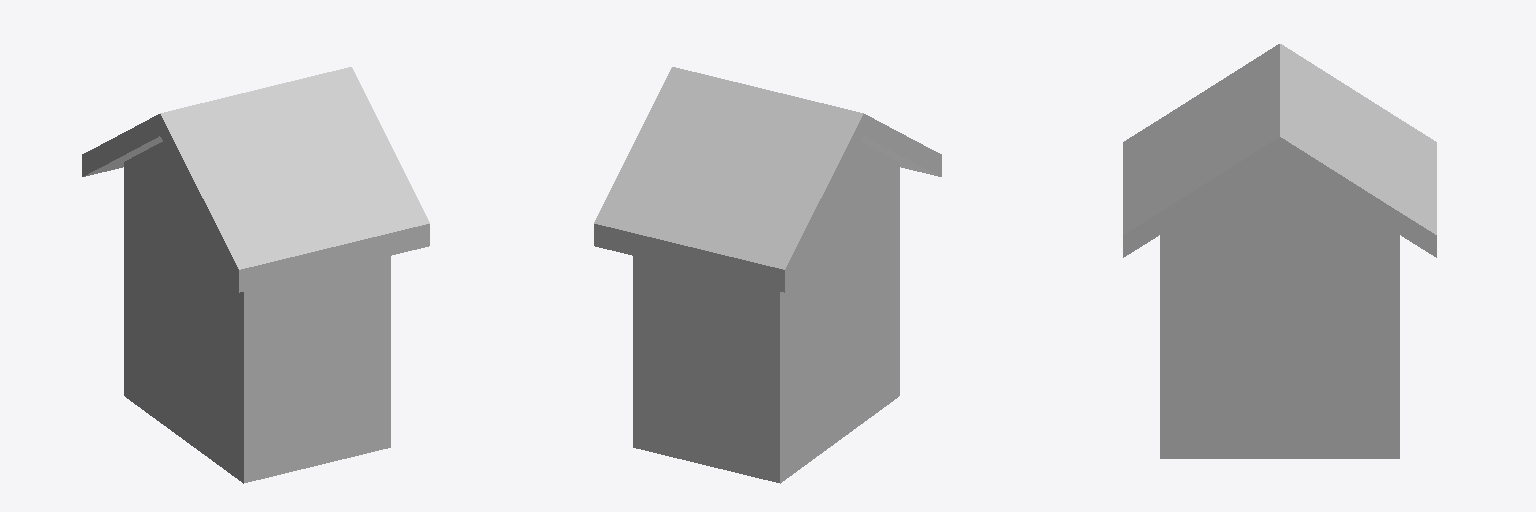
The model's file is gardenshed.obj.
3 renders of one model, left to right at view 1: azimuth 30°, elevation 25°; view 2: azimuth 150°, elevation 25°; view 3: azimuth 270°, elevation 25°, orthographic.
Visible parts, largest first — view 1: Gardenshed; view 2: Gardenshed; view 3: Gardenshed.
Part boxes in pixels (left/top/right/bottom): Gardenshed: left=82, top=67, right=429, bottom=483; Gardenshed: left=594, top=67, right=941, bottom=483; Gardenshed: left=1123, top=44, right=1436, bottom=458.
Size of the model in its own units: 4.34 by 7.2 by 6.18.